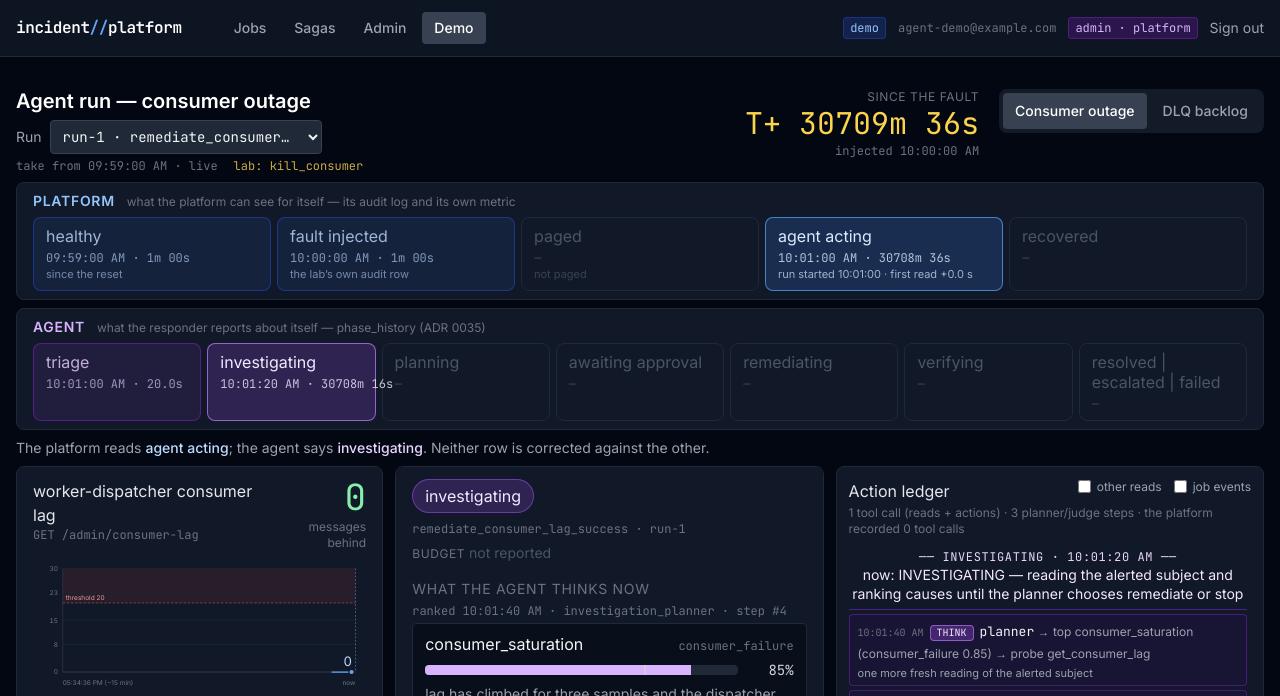
it: DemoPage — the planner thinks on screen › opens the ranking and the chosen next action on a click
Click the button that starts with "10:01:40 AM" at (1048, 641), box [858, 619, 1238, 663]
(page scrolled)
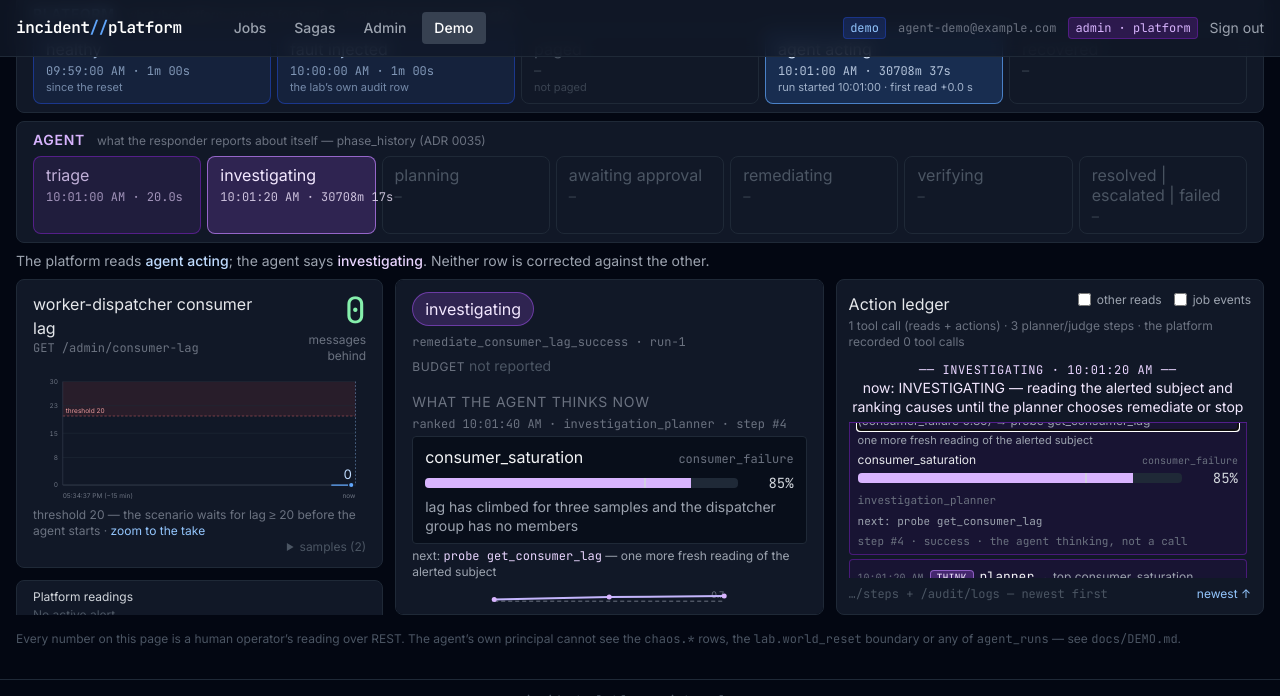
Now the element with test id "think-detail" shows "consumer_saturation", box [858, 452, 976, 467]
Now the element with test id "think-detail" shows "next: probe get_consumer_lag", box [858, 514, 1042, 528]
Now the element with test id "ledger-entry" shows "the agent thinking, not a call", box [970, 534, 1188, 548]
